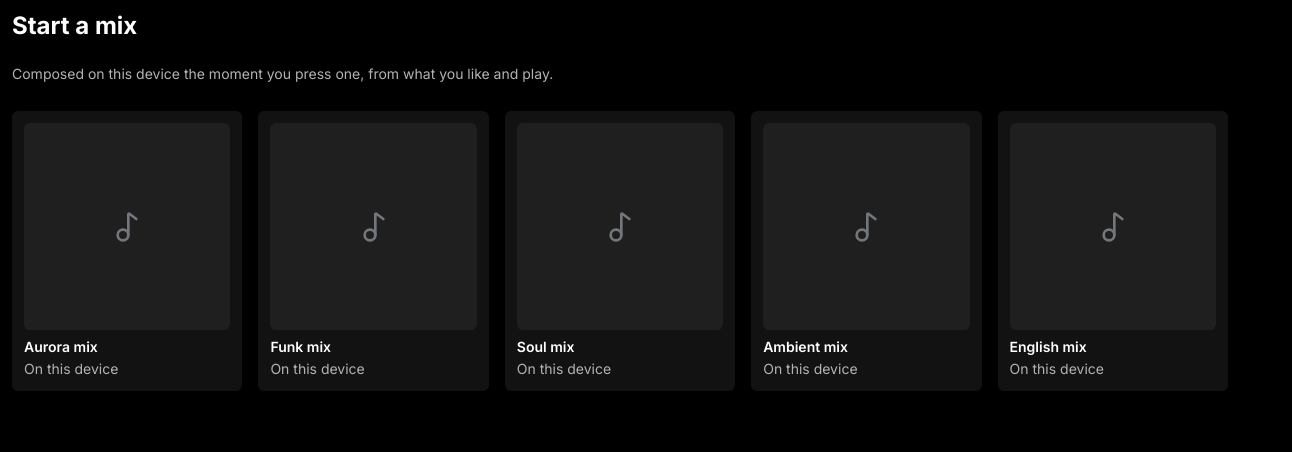
MixCards: an empty mix is explained rather than silently inert › explains a provider failure in the generator's own words
Click the button with test id "mix-card" showing "Aurora mix On this device": (127, 251) x1=12 y1=111 x2=242 y2=391
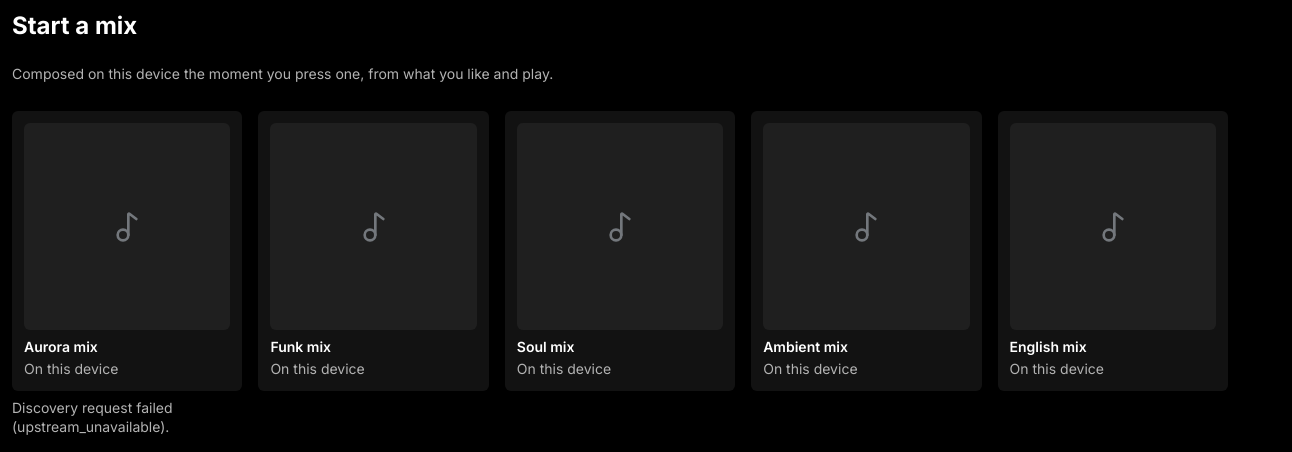
Check: the message "Discovery request failed (upstream_unavailable)." is shown, box x1=12 y1=399 x2=172 y2=435
